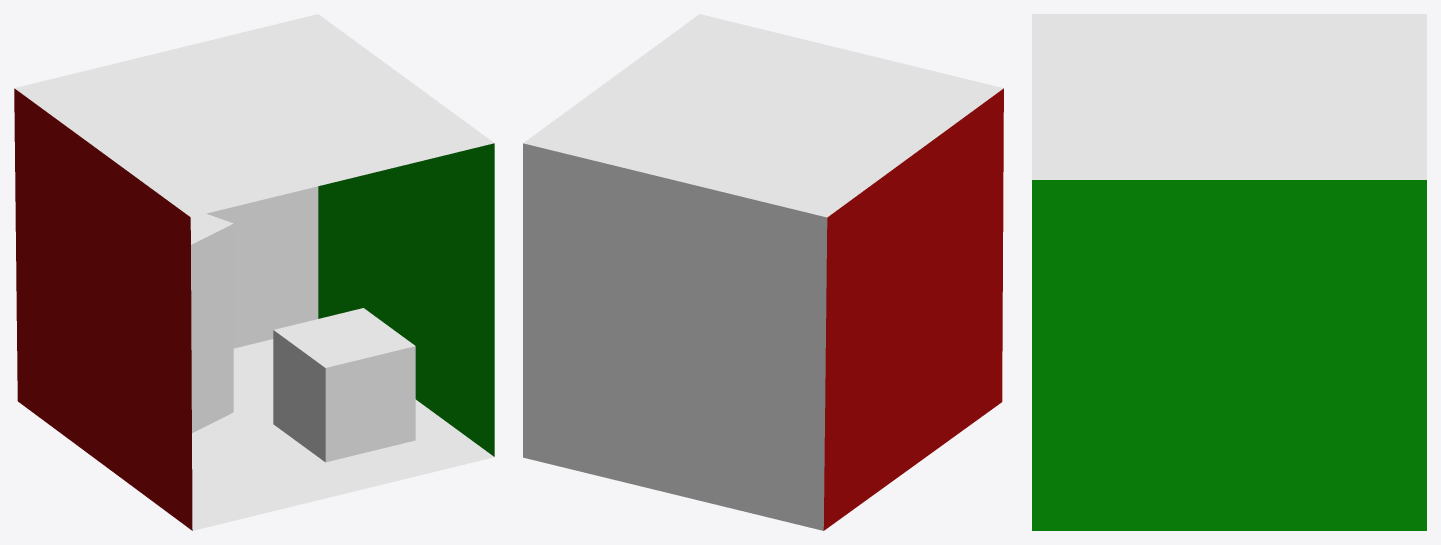
File: cornell_centered.fbx
The picture shows the model from 3 angles, left to right: view 1: azimuth 30°, elevation 25°; view 2: azimuth 150°, elevation 25°; view 3: azimuth 270°, elevation 25°; orthographic projection. The views are drawn at different scales.
Visible parts, largest first — view 1: object2, object4, object3, object5, object6; view 2: object2, object4; view 3: object3, object2.
Part boxes in pixels (bbox=[...]): object2: bbox=[14, 14, 494, 530]; object4: bbox=[14, 88, 192, 530]; object3: bbox=[318, 143, 494, 456]; object5: bbox=[273, 308, 415, 462]; object6: bbox=[190, 213, 233, 432]; object2: bbox=[523, 14, 1003, 530]; object4: bbox=[823, 88, 1003, 530]; object3: bbox=[1032, 180, 1426, 530]; object2: bbox=[1032, 14, 1426, 179].
Bounding box in the file's own units: 23.28 × 22.98 × 23.41.
